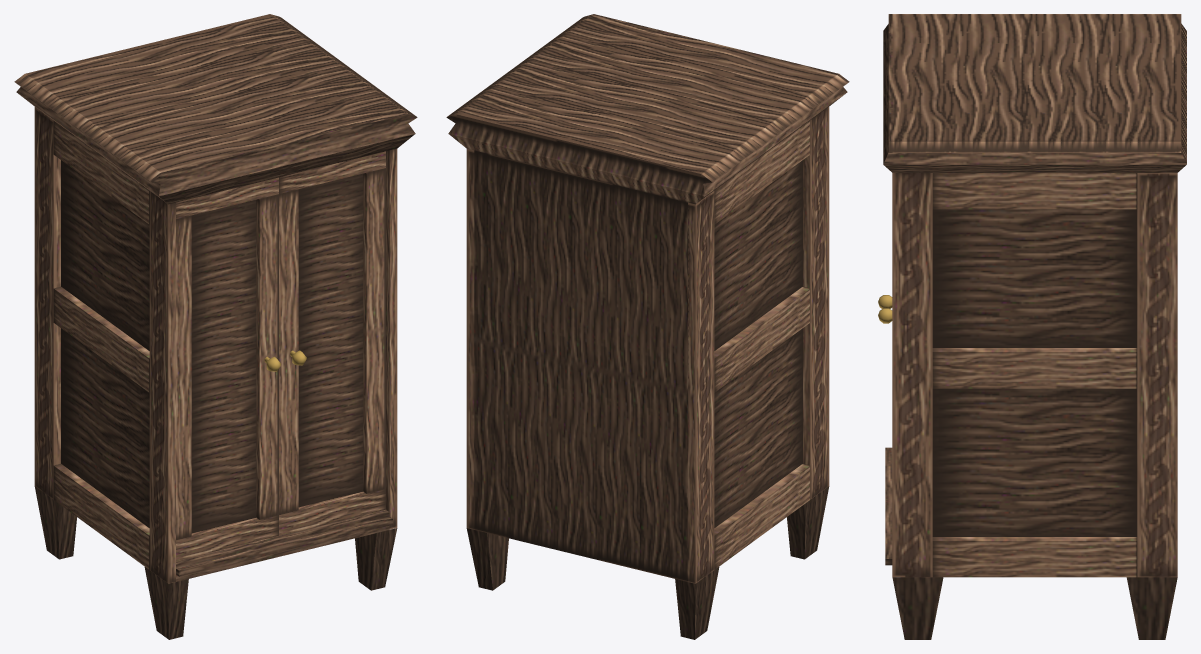
Rendered from wardrobe.fbx.
3 renders of one model, left to right at view 1: azimuth 30°, elevation 25°; view 2: azimuth 150°, elevation 25°; view 3: azimuth 270°, elevation 25°, orthographic. The views are drawn at different scales.
Parts seen in each view (by area): view 1: wardrobe; view 2: wardrobe; view 3: wardrobe.
Part boxes in pixels (x1,y1,x2,y2): wardrobe: (14, 14, 417, 639); wardrobe: (446, 14, 849, 639); wardrobe: (878, 14, 1186, 639).
Bounding box in the file's own units: 1.93 × 3.29 × 1.82.
Materials: 1 (1 with a texture image).
